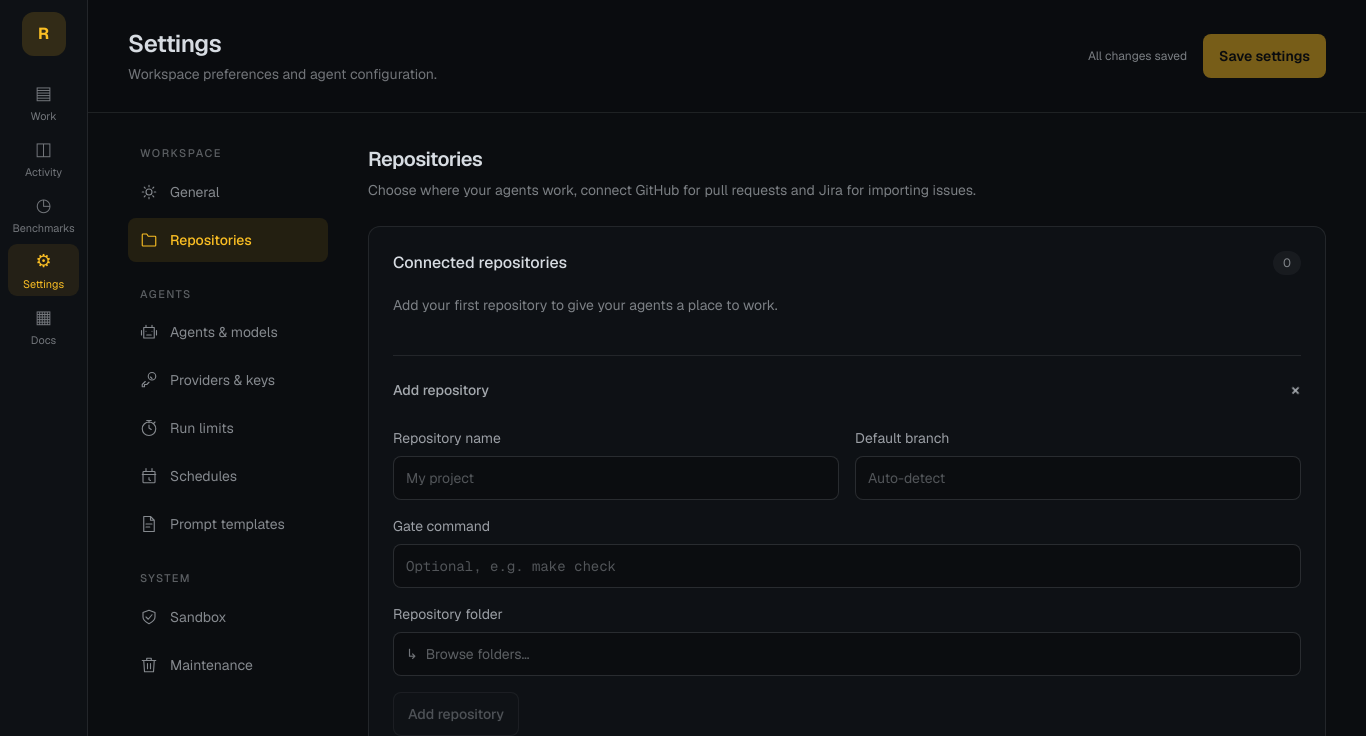
Test case: SettingsPage › opens existing deep links and responds to browser history
Check: the heading "Repositories" is shown, box [368,146,482,172]
What coordinates should you click on to do the following:
click the link "Sandbox"
I would click on:
 (183, 616)
Its box is [140,608,226,626].
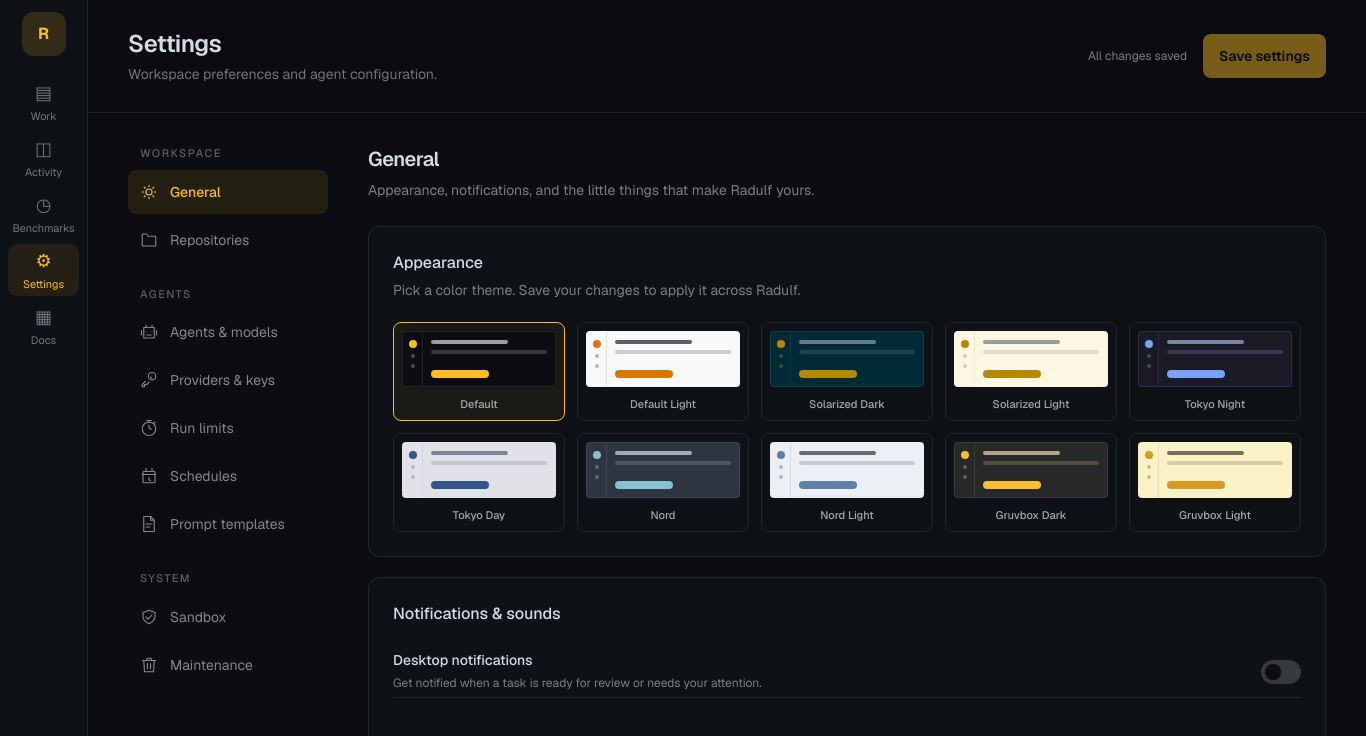
Check: the checkbox labelled "Desktop notifications" is shown, box [393,646,1301,698]
Check: the heading "General" is shown, box [368,146,439,172]
